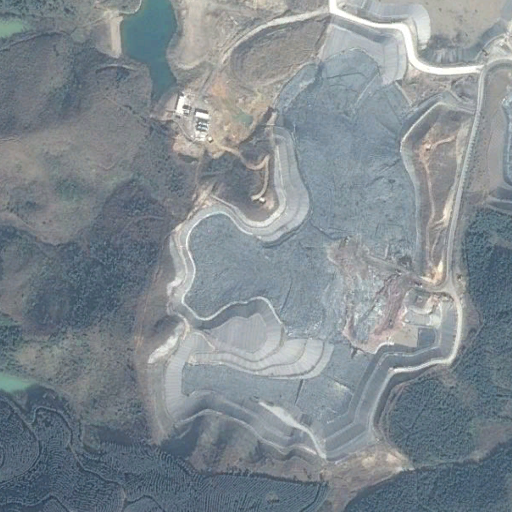lf: (147, 25, 462, 459)
